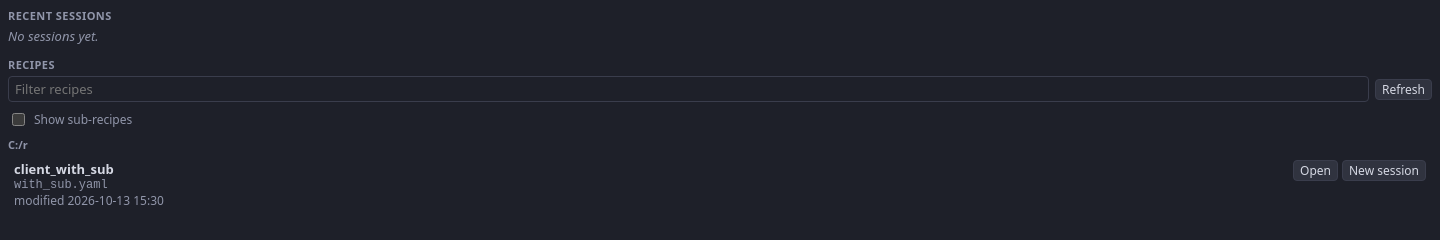
Test: opening a recipe › says which recipe is opening in the status bar and the diagram
What coordinates should you click on to do the following:
click the button "Open"
I would click on:
 (1316, 170)
Its box is [1293,160,1338,181].
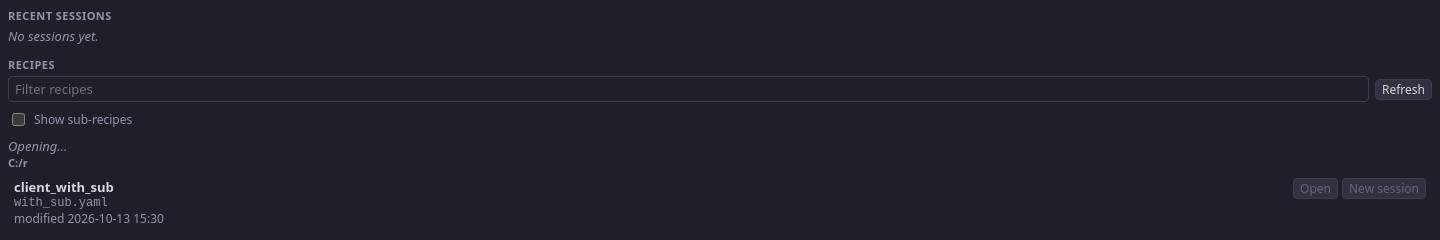
Check: the button "Open" is disabled, box [1293,178,1338,199]
